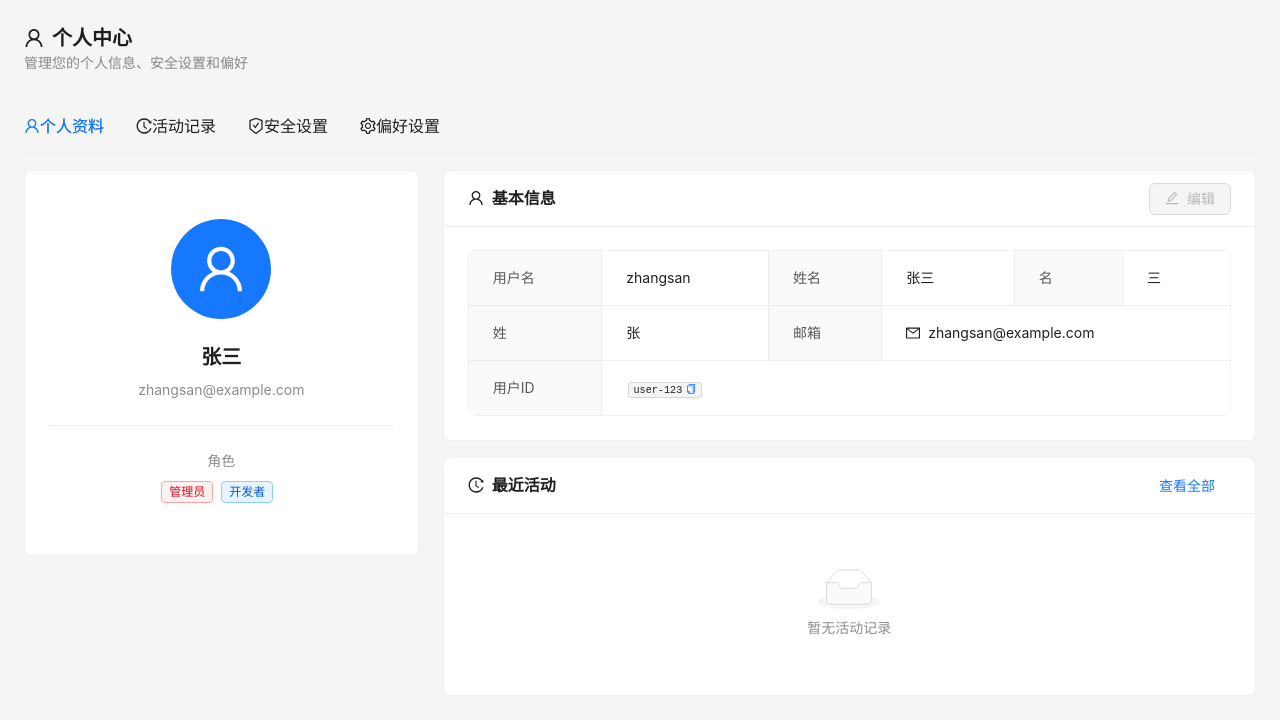
it: ProfilePage › 偏好设置 Tab › 应该显示显示设置卡片
This screenshot has width=1280, height=720.
Click the tab "偏好设置": (400, 126) [360,114,440,138]
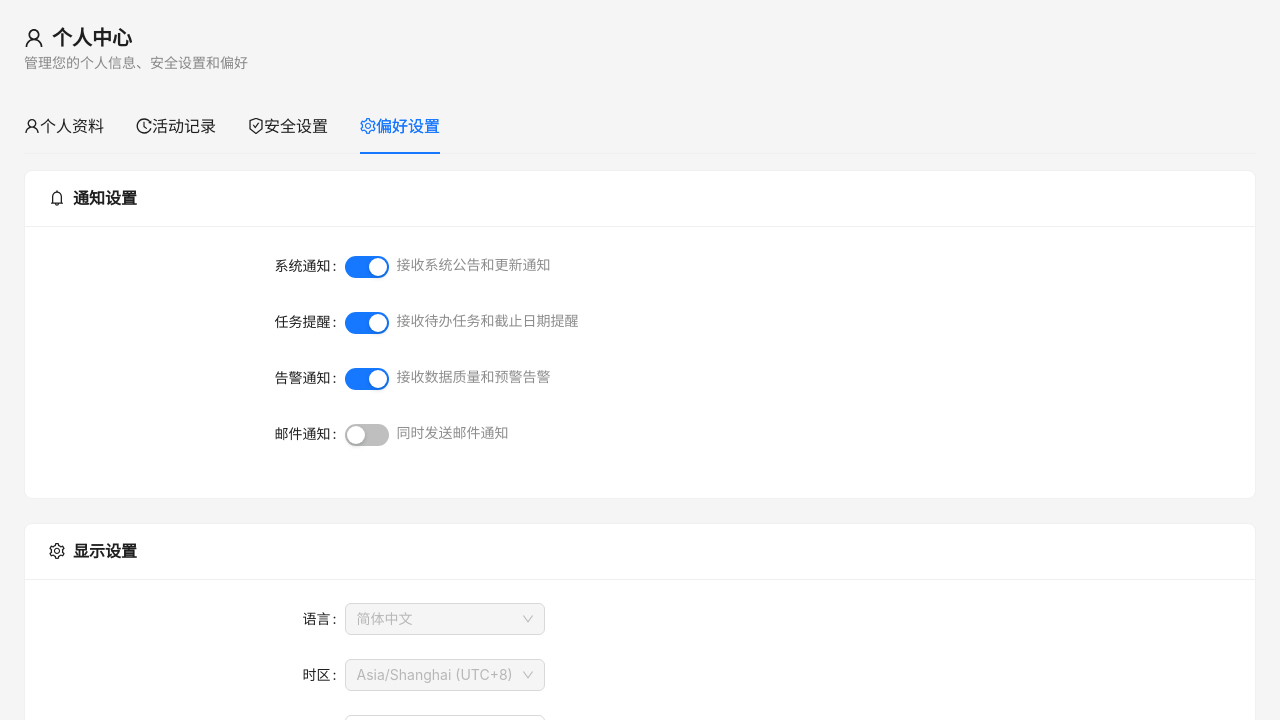
Expected: the text "显示设置" is shown, [49,541,137,561]
